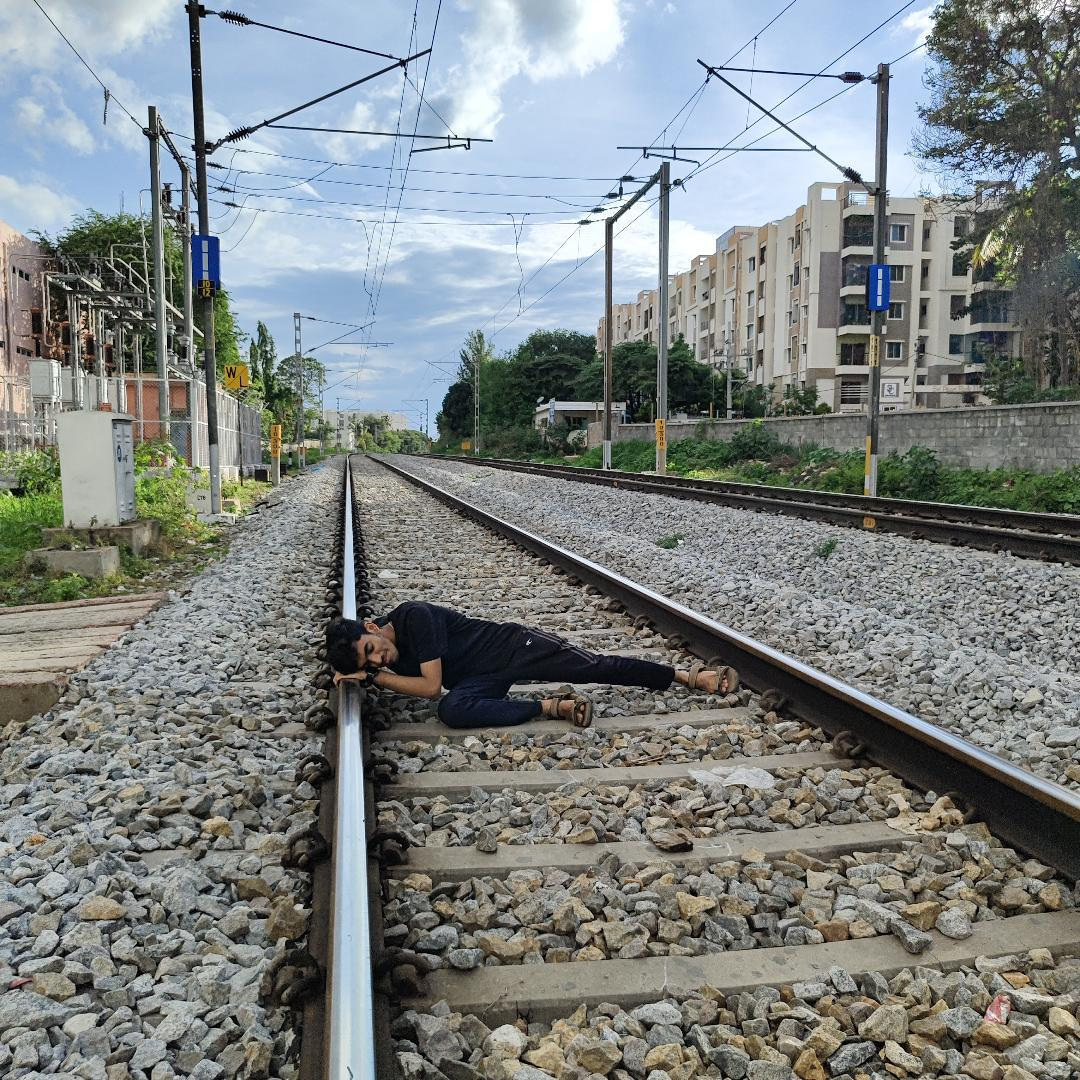sleeping: (299, 612, 735, 727)
